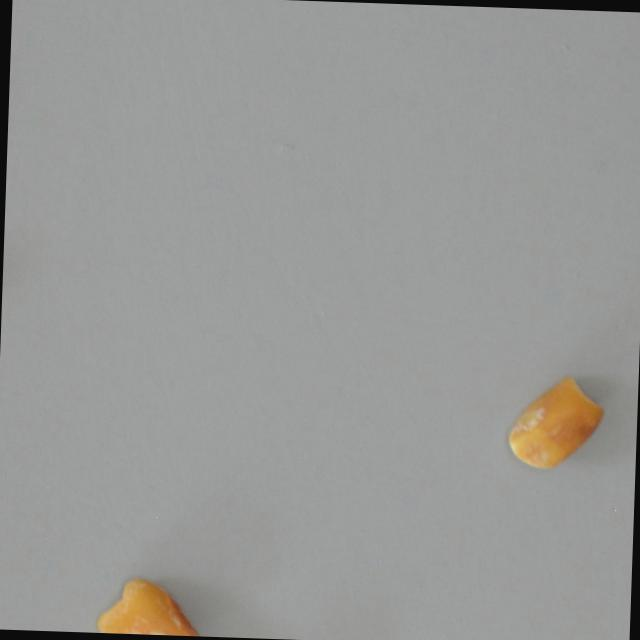dañado: (500, 369, 606, 475), (93, 572, 221, 637)
